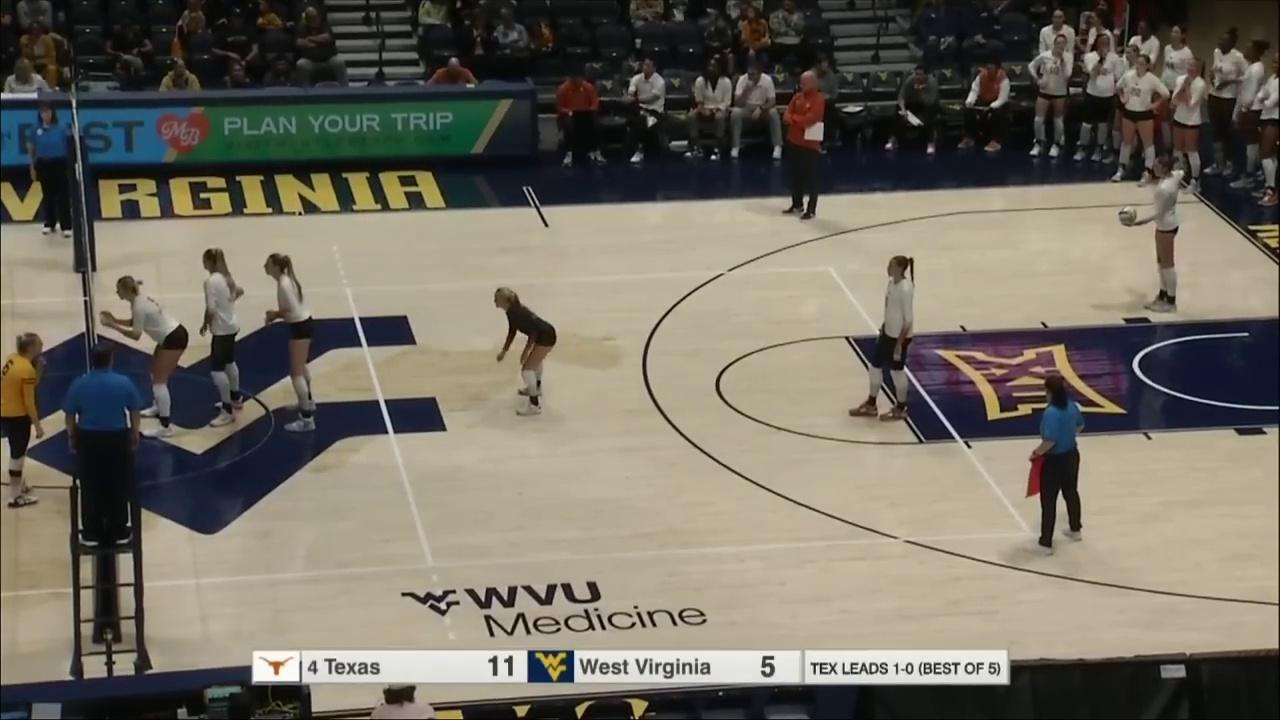player: (100, 279, 189, 437), (849, 254, 916, 421), (264, 254, 319, 431), (1129, 157, 1185, 313), (490, 290, 558, 418), (199, 247, 247, 425), (0, 332, 47, 508)
refree: (63, 343, 139, 543), (1031, 378, 1083, 555), (31, 107, 76, 236)
